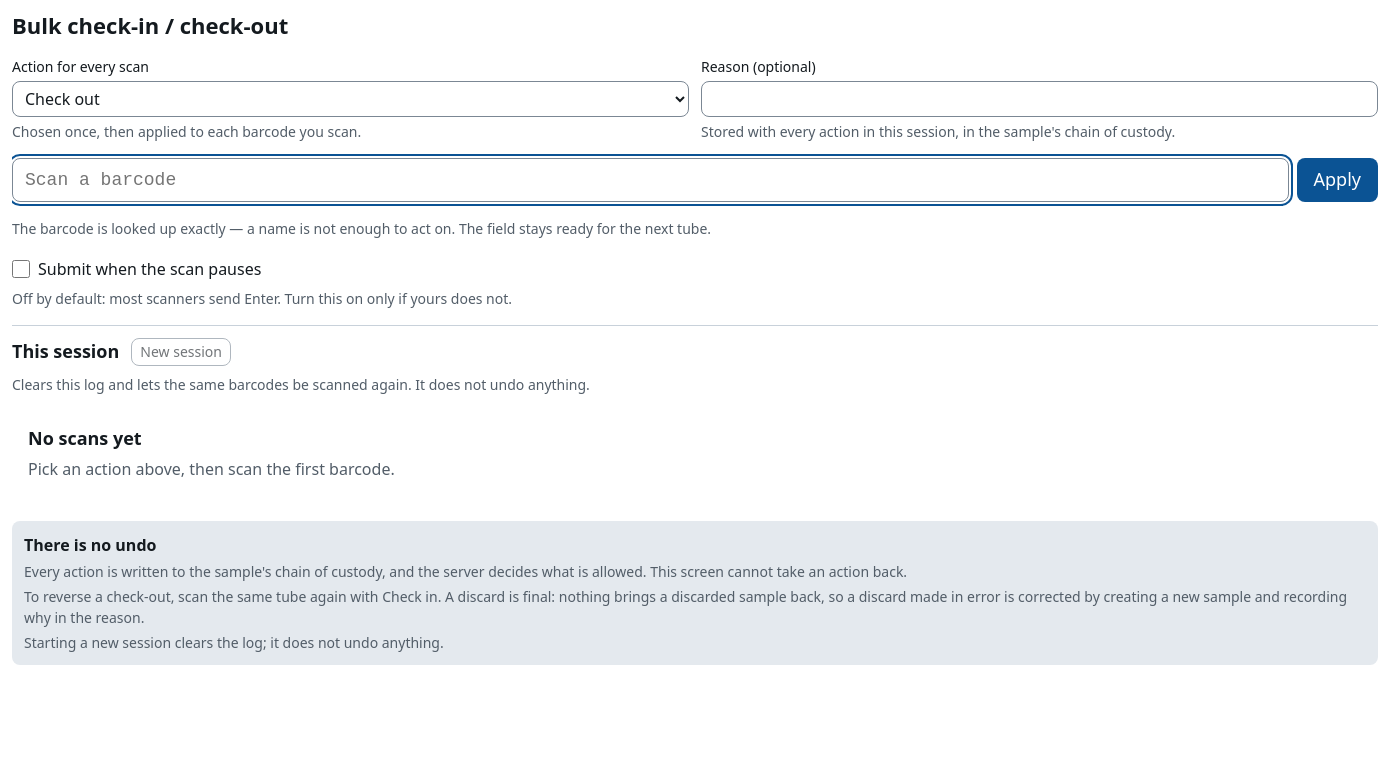
Test: ScanScreen — the four outcomes stay distinct › records an unreachable server as retryable, never as a missing barcode
The image size is (1390, 780).
Type "DEMO-0001" into the search field labelled "Scan a barcode" at (650, 180), box 12,158 -> 1288,202
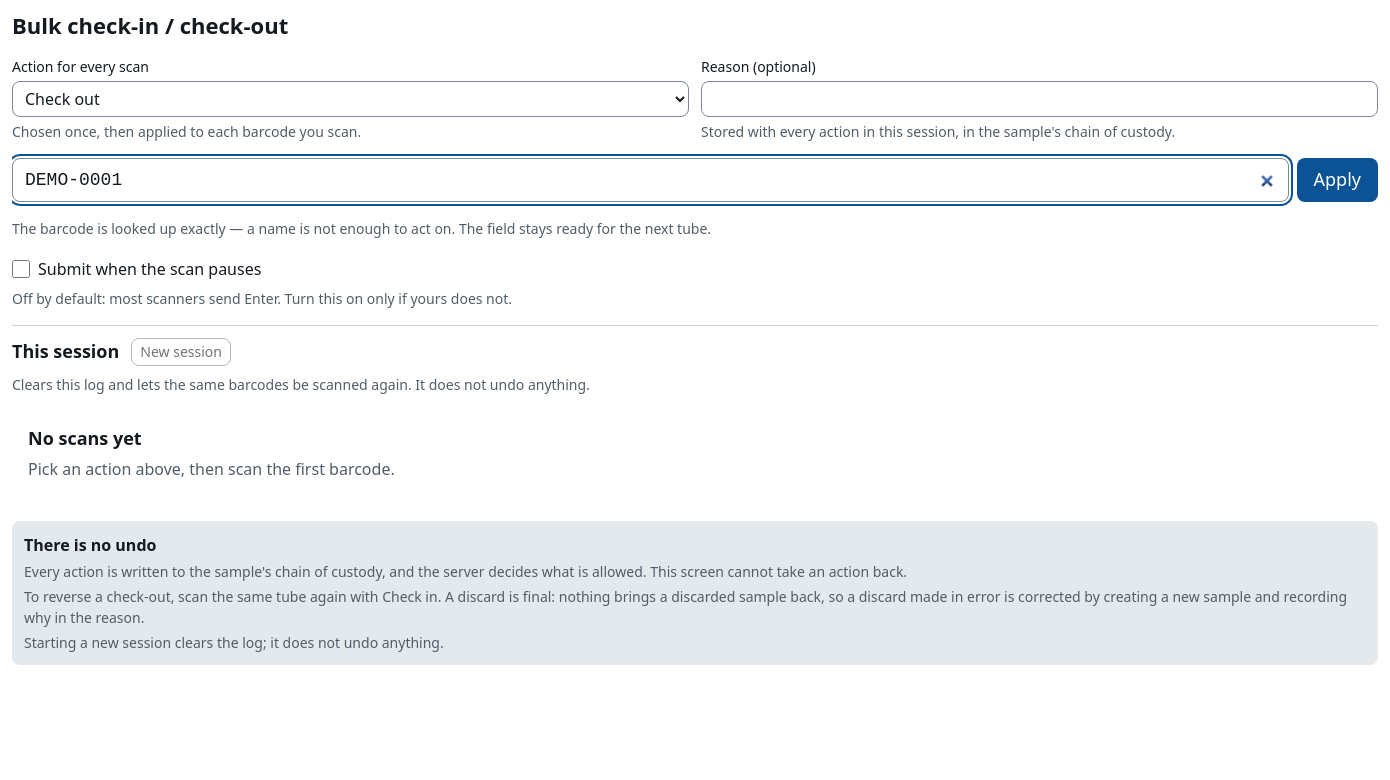
Submit the form named "Scan a barcode", box 12,158 -> 1378,202
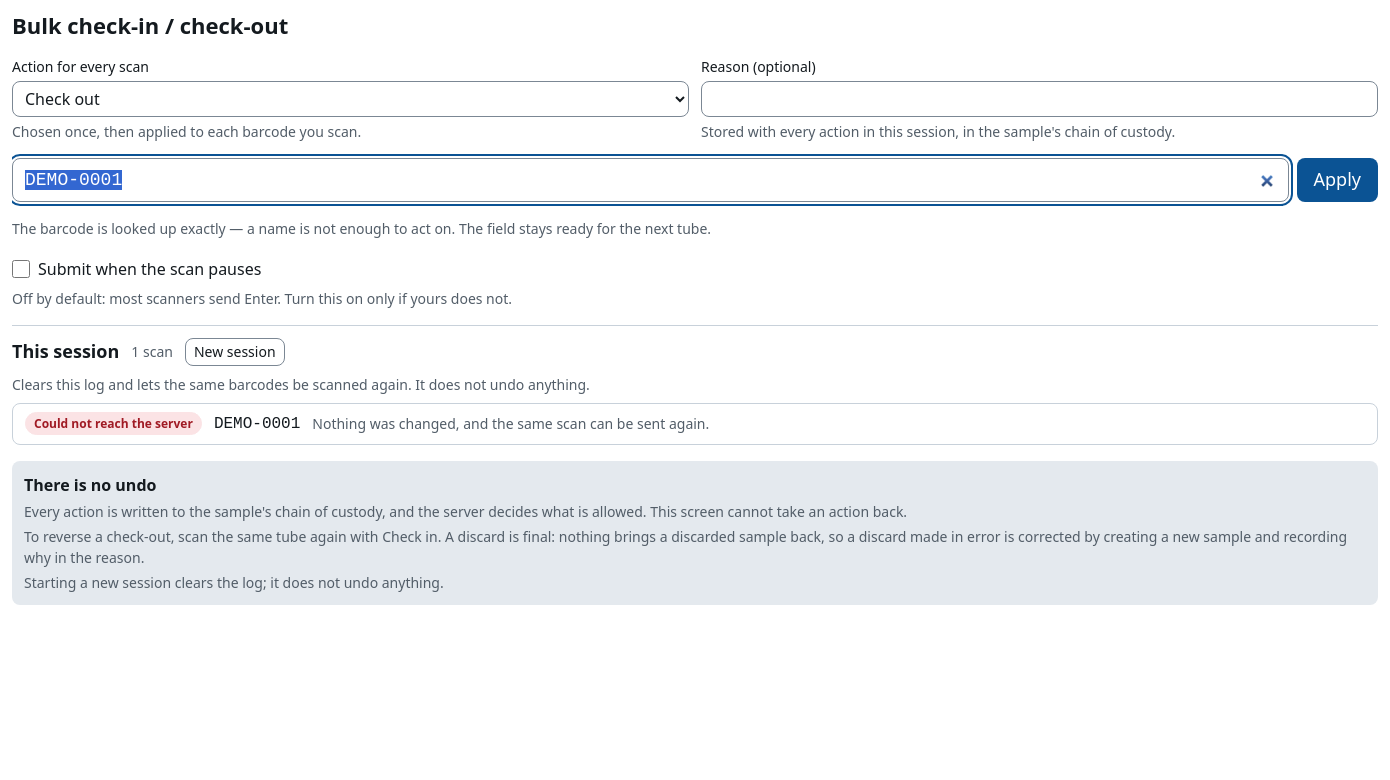
Expected: the list item does not show "No such barcode", 12,402 -> 1378,444
Now the list item is shown, box 12,402 -> 1378,444
Now the list item shows "Could not reach the server", box 34,415 -> 193,432
